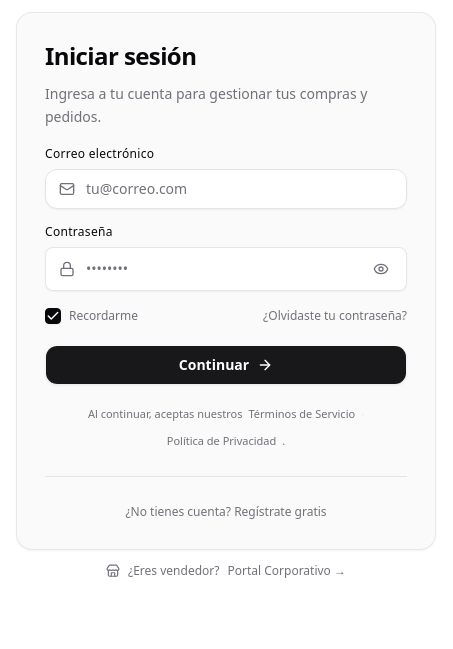
Scenario: Módulo de Autenticación y Salud (W4-S01-auth-module) › LoginPage › valida campos obligatorios en cliente sin invocar API si están vacíos
Click the button "Continuar". click: {"x": 226, "y": 364}
box: [45, 344, 407, 384]
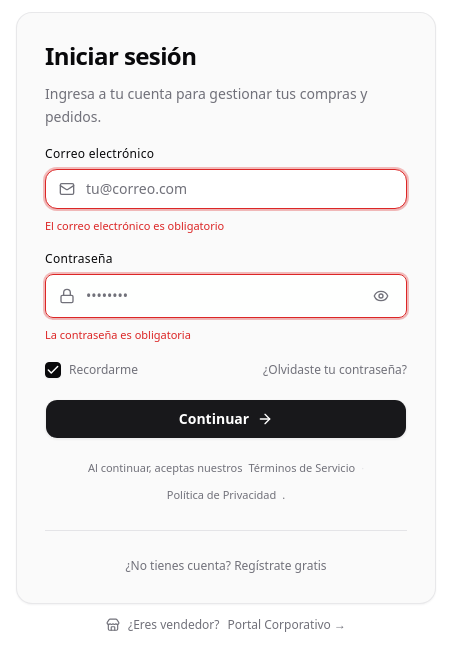
Expected: the text "El correo electrónico es obligatorio" is shown, [45, 218, 224, 232]
Expected: the text "La contraseña es obligatoria" is shown, [45, 326, 191, 342]
